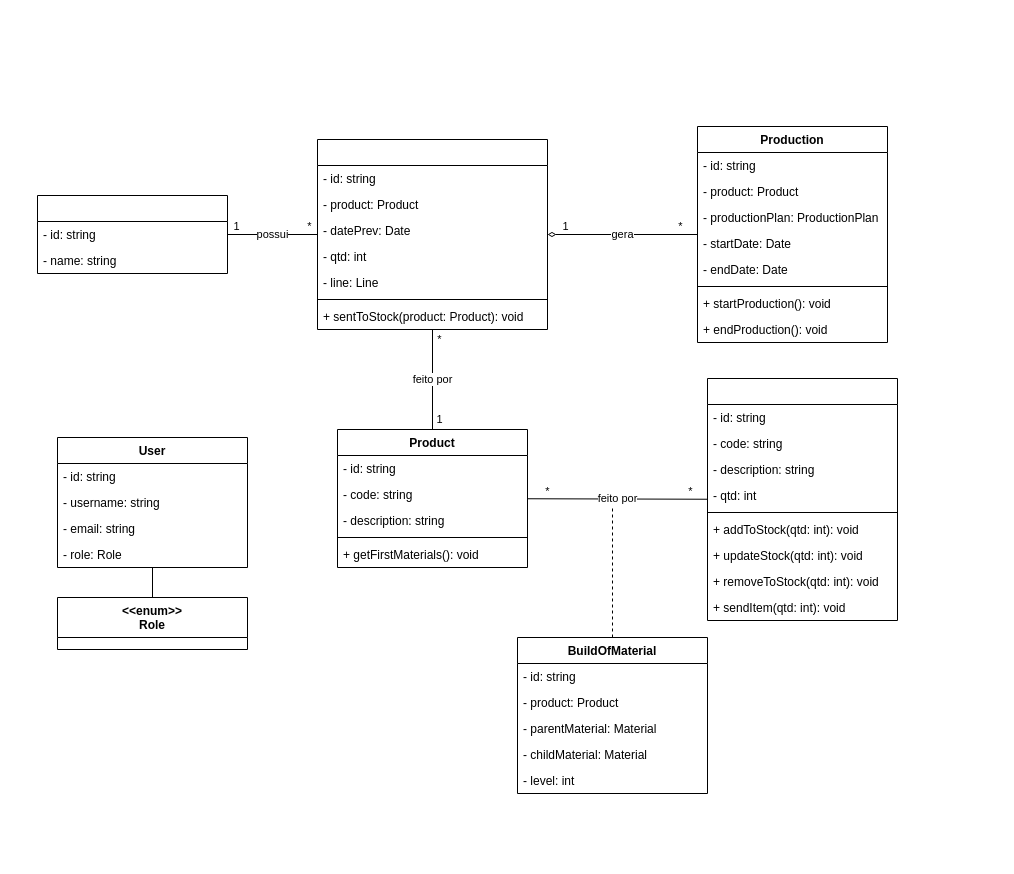
Some shapes in this 1014 by 874 pixel diagram are drawn without their labels. The box of each missing label's shape, as (x1, y1, x2, y2) in pixels:
Line: (36, 194, 228, 274)
Material: (706, 378, 898, 620)
ProductionPlan: (316, 138, 548, 330)
